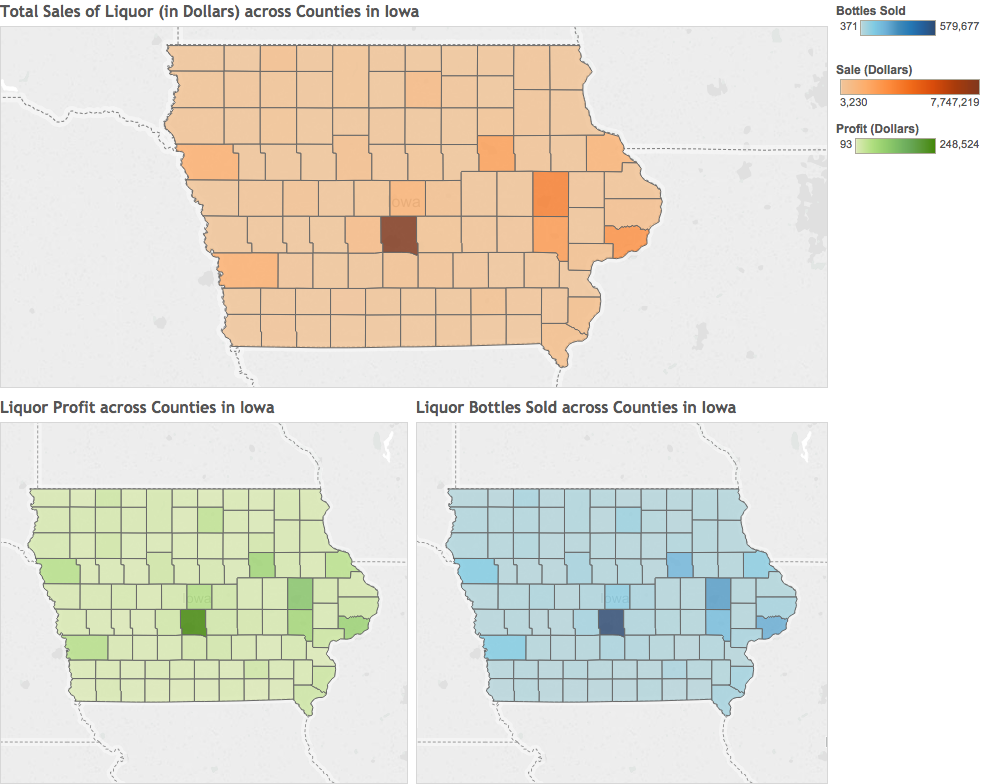

This screenshot's page, from the dashboard's own definition file:
{"tool":"tableau","page":{"name":"Dashboard 1","canvas":[1000,800],"ordinal":0},"visuals":[{"type":"worksheet","title":"Sheet 2","mark":"Multipolygon","box":[0,0,840,400]},{"type":"legend","title":"Sheet 3","param":"[textscan.1iuiorx16igyig13n91zp04eazs5].[sum:Bottles Sold:qk]","box":[840,0,160,62]},{"type":"legend","title":"Sheet 2","param":"[textscan.1iuiorx16igyig13n91zp04eazs5].[sum:Sale (Dollars):qk]","box":[840,62,160,58]},{"type":"legend","title":"Sheet 1","param":"[textscan.1iuiorx16igyig13n91zp04eazs5].[sum:Profit (Dollars):qk]","box":[840,120,160,58]},{"type":"worksheet","title":"Sheet 1","mark":"Multipolygon","box":[0,400,420,400]},{"type":"worksheet","title":"Sheet 3","mark":"Automatic","box":[420,400,420,400]}]}

Visuals, with their boxes in screenshot pixels (x1, y1, x2, y2), scaled from the page's 1000x800 canvas onto the 984x784 screenshot:
"Sheet 2" worksheet (Multipolygon marks): locate(0, 0, 827, 392)
"Sheet 3" legend: locate(827, 0, 983, 61)
"Sheet 2" legend: locate(827, 61, 983, 118)
"Sheet 1" legend: locate(827, 118, 983, 174)
"Sheet 1" worksheet (Multipolygon marks): locate(0, 392, 413, 783)
"Sheet 3" worksheet: locate(413, 392, 827, 783)
